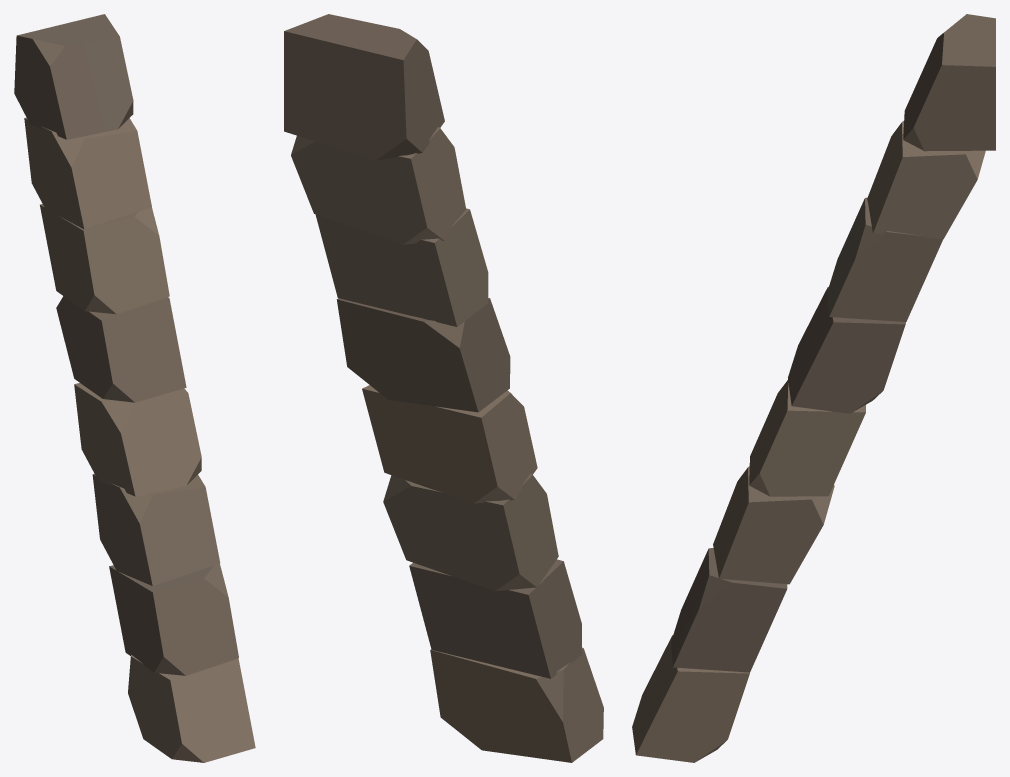
The model's file is SM_Bld_Wall_Slope_Edge_01.fbx.
The picture shows the model from 3 angles, left to right: view 1: azimuth 30°, elevation 25°; view 2: azimuth 150°, elevation 25°; view 3: azimuth 270°, elevation 25°; orthographic projection. The views are drawn at different scales.
Visible parts, largest first — view 1: SM_Bld_Wall_Slope_Edge_01; view 2: SM_Bld_Wall_Slope_Edge_01; view 3: SM_Bld_Wall_Slope_Edge_01.
Part boxes in pixels (<box>): SM_Bld_Wall_Slope_Edge_01: <box>14,14,255,762</box>; SM_Bld_Wall_Slope_Edge_01: <box>284,14,603,762</box>; SM_Bld_Wall_Slope_Edge_01: <box>632,14,995,762</box>.
Bounding box in the file's own units: 98.22 × 617 × 290.
1 material, 1 textured.
